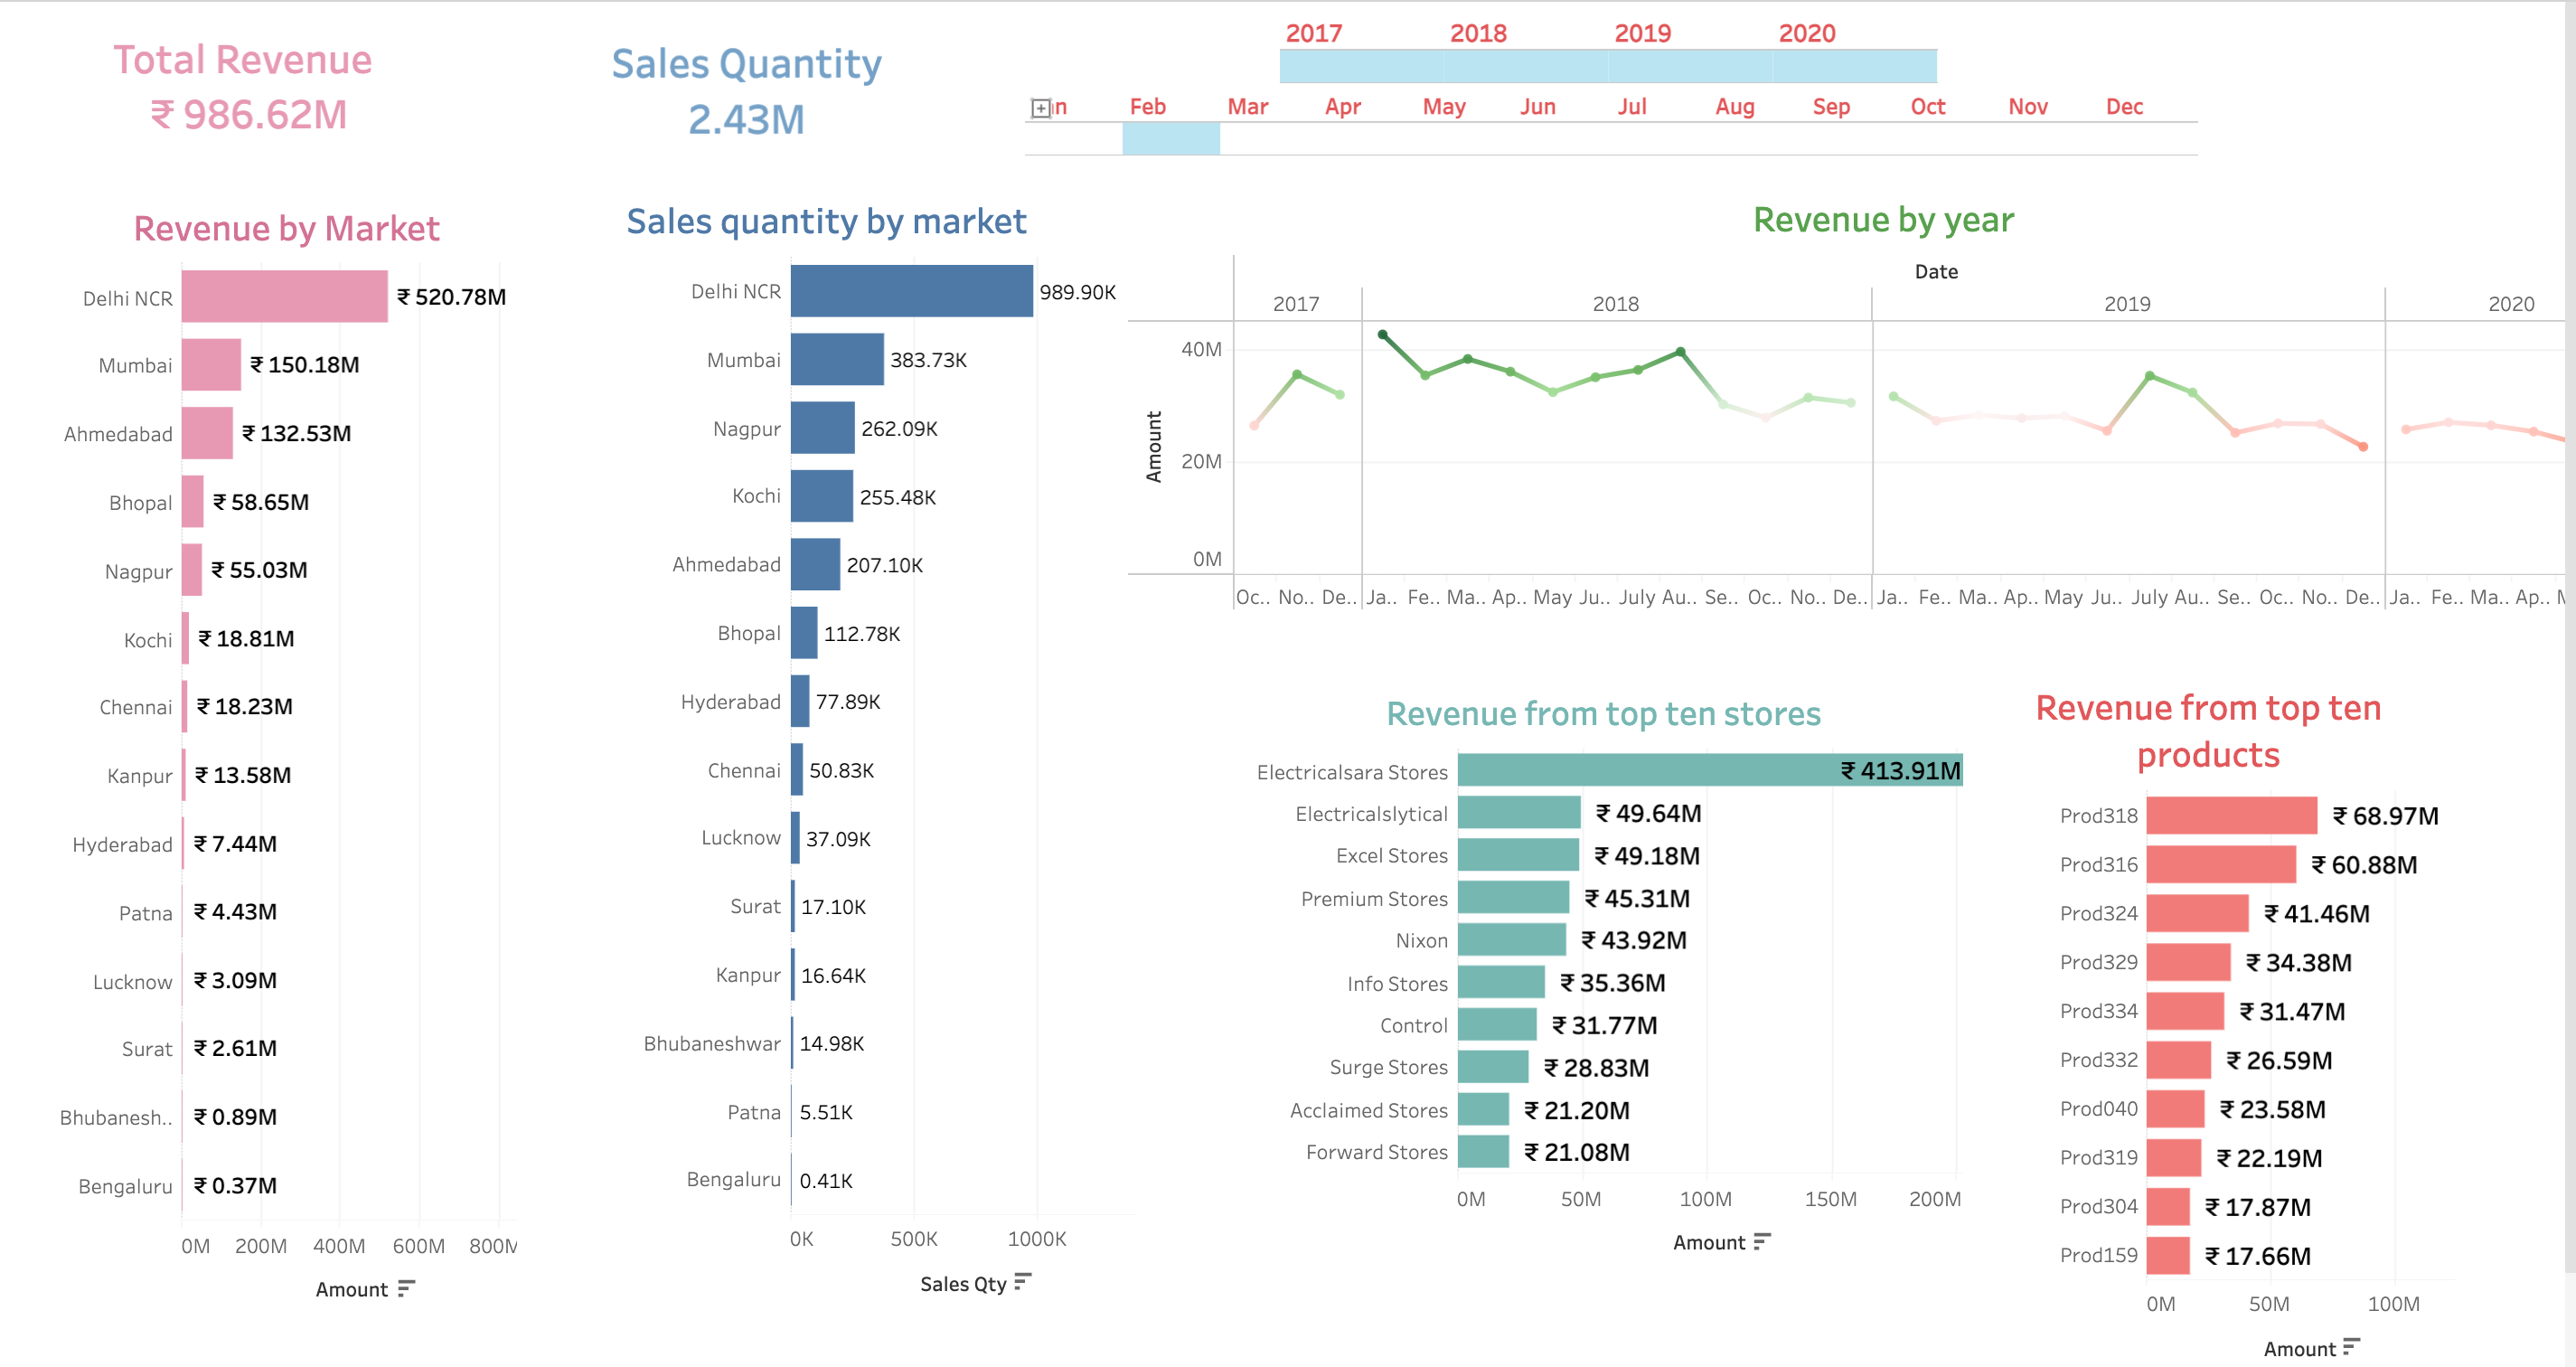

Layout of this report page (visuals, bound fields, positions):
{"tool":"tableau","page":{"name":"sales data dashboard","canvas":[1654,1169],"ordinal":0},"visuals":[{"type":"worksheet","title":"Year","mark":"Automatic","cols":["cy_date"],"box":[792,9,452,54]},{"type":"worksheet","title":"Revenue","mark":"Automatic","box":[66,16,186,165]},{"type":"worksheet","title":"Quantity","mark":"Automatic","box":[374,19,183,91]},{"type":"worksheet","title":"Month","mark":"Automatic","cols":["cy_date"],"box":[636,53,721,68]},{"type":"worksheet","title":"Revenue by year","mark":"Automatic","rows":["Calculation_198228788031549440"],"cols":["date","date"],"box":[699,111,930,263]},{"type":"worksheet","title":"sales quantity by market","mark":"Automatic","rows":["markets_name"],"cols":["sales_qty"],"box":[323,112,382,768]},{"type":"worksheet","title":"Revenue by Market","mark":"Automatic","rows":["markets_name"],"cols":["Calculation_198228788031549440"],"box":[37,116,291,734]},{"type":"worksheet","title":"Top 10 products","mark":"Automatic","rows":["product_code"],"cols":["Calculation_198228788031549440"],"box":[1217,411,400,440]},{"type":"worksheet","title":"Sales by top 10 customers","mark":"Automatic","rows":["custmer_name"],"cols":["Calculation_198228788031549440"],"box":[771,416,441,418]}]}

Visuals, with their boxes on the page's 1654x1169 design canvas (x1, y1, x2, y2). These are canvas units, not pixel positions in the 2576x1367 screenshot, which may show the page scaled, cropped or inside an application window:
"Year" worksheet: Rect(792, 9, 1244, 63)
"Revenue" worksheet: Rect(66, 16, 252, 181)
"Quantity" worksheet: Rect(374, 19, 557, 110)
"Month" worksheet: Rect(636, 53, 1357, 121)
"Revenue by year" worksheet: Rect(699, 111, 1629, 374)
"sales quantity by market" worksheet: Rect(323, 112, 705, 880)
"Revenue by Market" worksheet: Rect(37, 116, 328, 850)
"Top 10 products" worksheet: Rect(1217, 411, 1617, 851)
"Sales by top 10 customers" worksheet: Rect(771, 416, 1212, 834)
